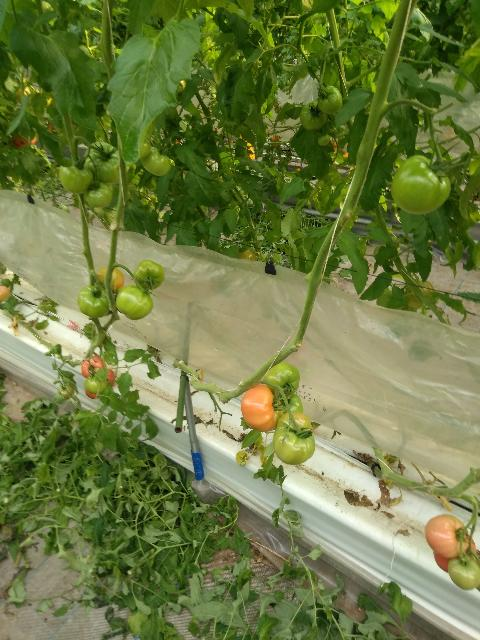b_green: (391, 155, 451, 214), (273, 411, 315, 465), (84, 142, 120, 184), (115, 285, 153, 320), (59, 160, 94, 194), (264, 362, 300, 395), (448, 554, 480, 591), (78, 284, 109, 319), (133, 260, 165, 290), (141, 147, 172, 176), (299, 101, 327, 131), (85, 180, 114, 208), (318, 86, 343, 115), (280, 393, 303, 414), (84, 374, 108, 394), (318, 134, 330, 146)
b_half_ripened: (241, 385, 285, 432), (424, 514, 469, 558), (95, 268, 124, 294), (81, 356, 106, 378), (0, 286, 10, 302)
